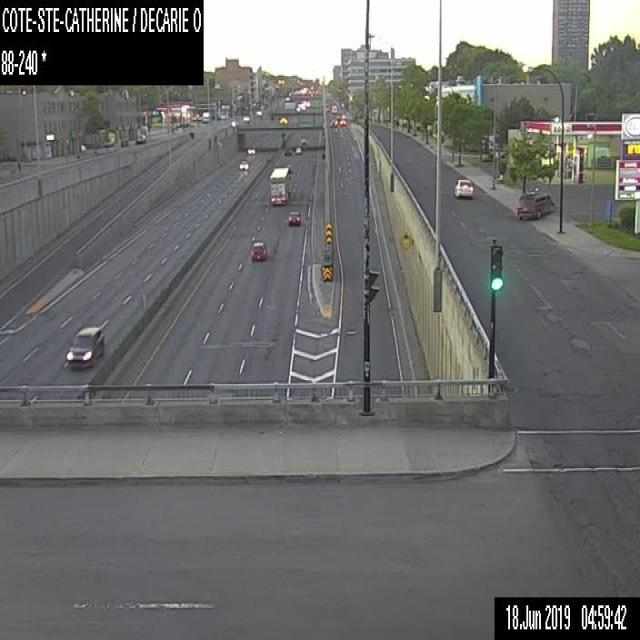vehicle: (66, 327, 103, 366), (516, 191, 554, 219), (268, 167, 290, 204), (249, 238, 267, 262), (454, 178, 472, 197), (287, 208, 300, 225), (136, 133, 146, 142), (239, 160, 248, 169), (202, 111, 210, 121), (330, 118, 338, 127), (246, 147, 255, 154), (283, 148, 291, 155), (230, 119, 238, 126), (255, 108, 261, 116), (339, 118, 345, 125), (295, 146, 301, 153), (242, 115, 249, 121), (300, 138, 306, 144)
